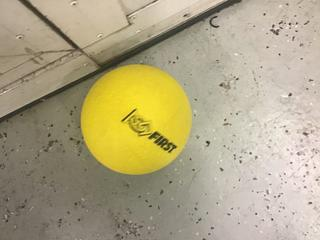power_cell: (82, 61, 191, 181)
